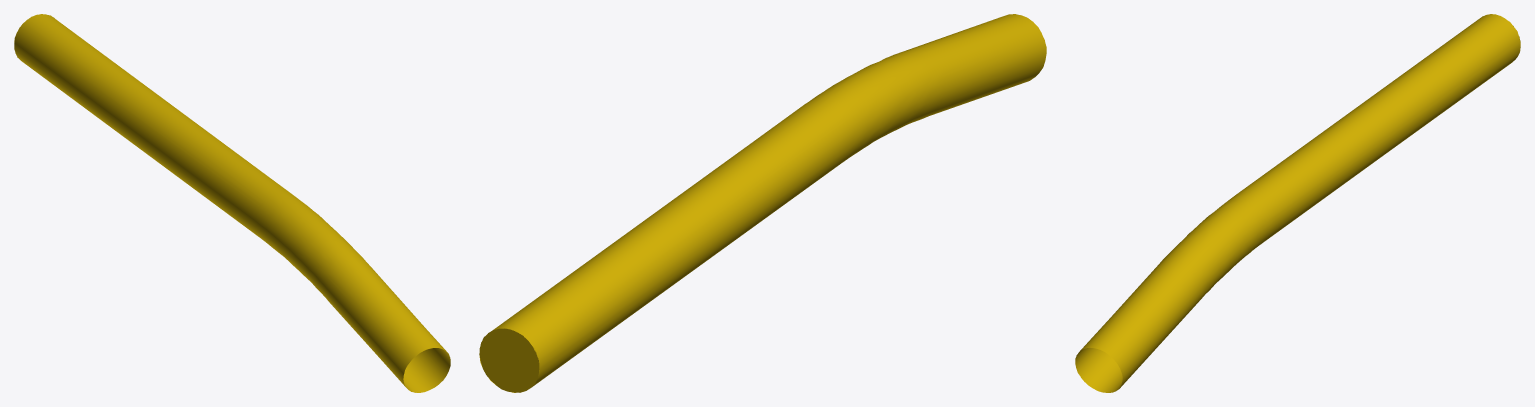
The model's file is original_11.obj.
3 views of the same model, side by side, from view 1: azimuth 30°, elevation 25°; view 2: azimuth 150°, elevation 25°; view 3: azimuth 330°, elevation 25° (orthographic). The views are drawn at different scales.
Parts seen in each view (by area): view 1: #ID59; view 2: #ID59; view 3: #ID59.
Part boxes in pixels (<box>): #ID59: <box>14,14,450,392</box>; #ID59: <box>479,14,1046,392</box>; #ID59: <box>1075,14,1520,392</box>.
Bounding box in the file's own units: 0.0273 × 0.0469 × 0.3679.
